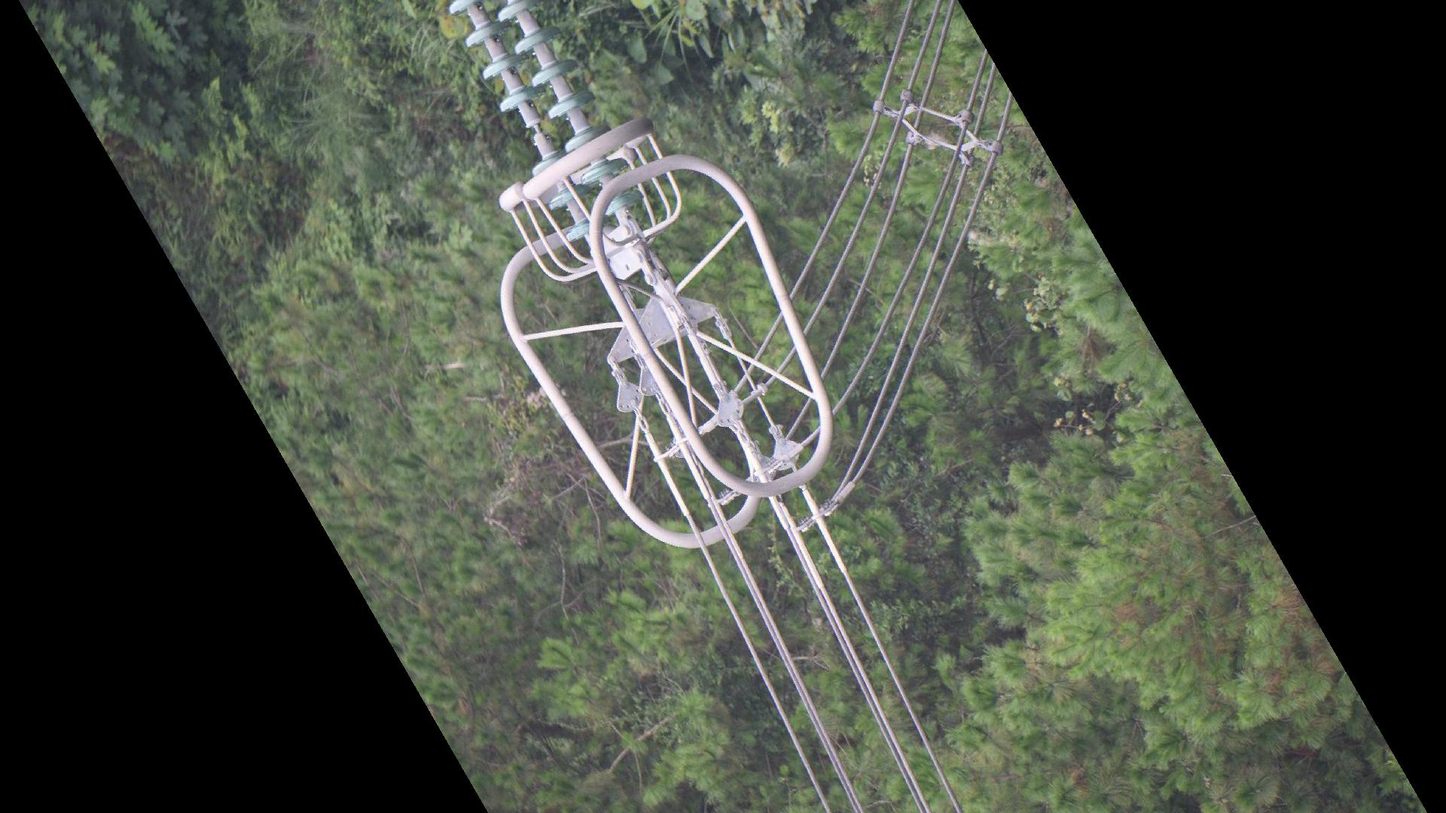insulator: (444, 1, 642, 249)
insulator_stringdrop: (496, 81, 575, 177)
